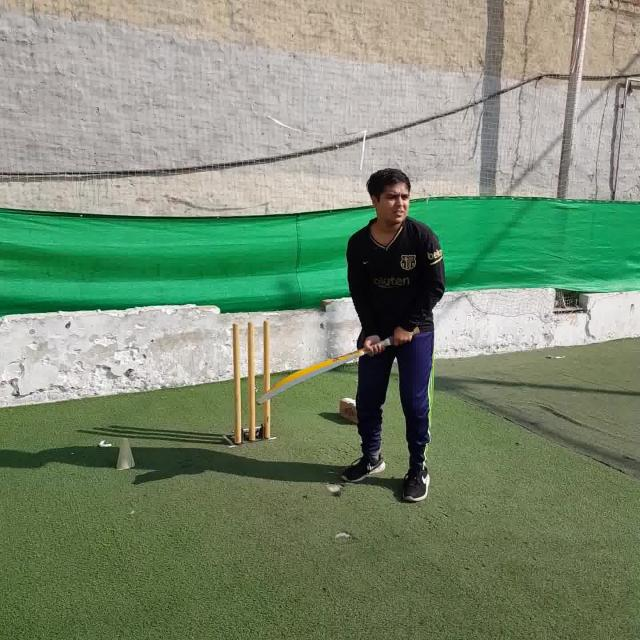bat: (255, 328, 419, 404)
